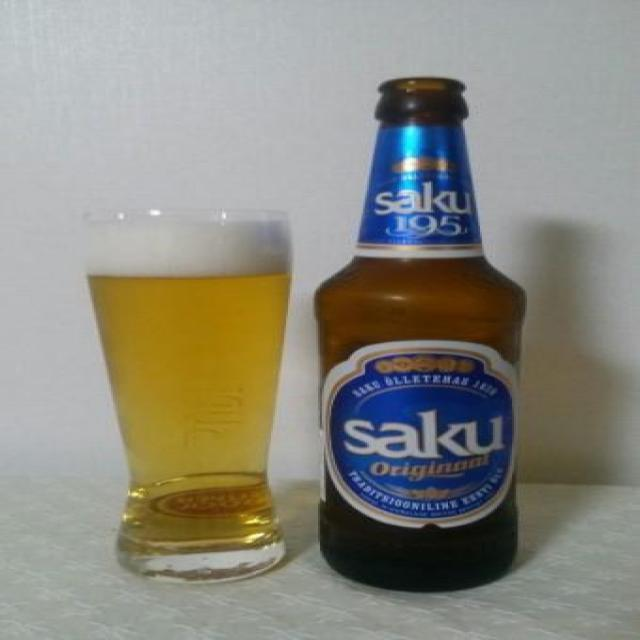beer-bottle: (314, 72, 531, 602)
